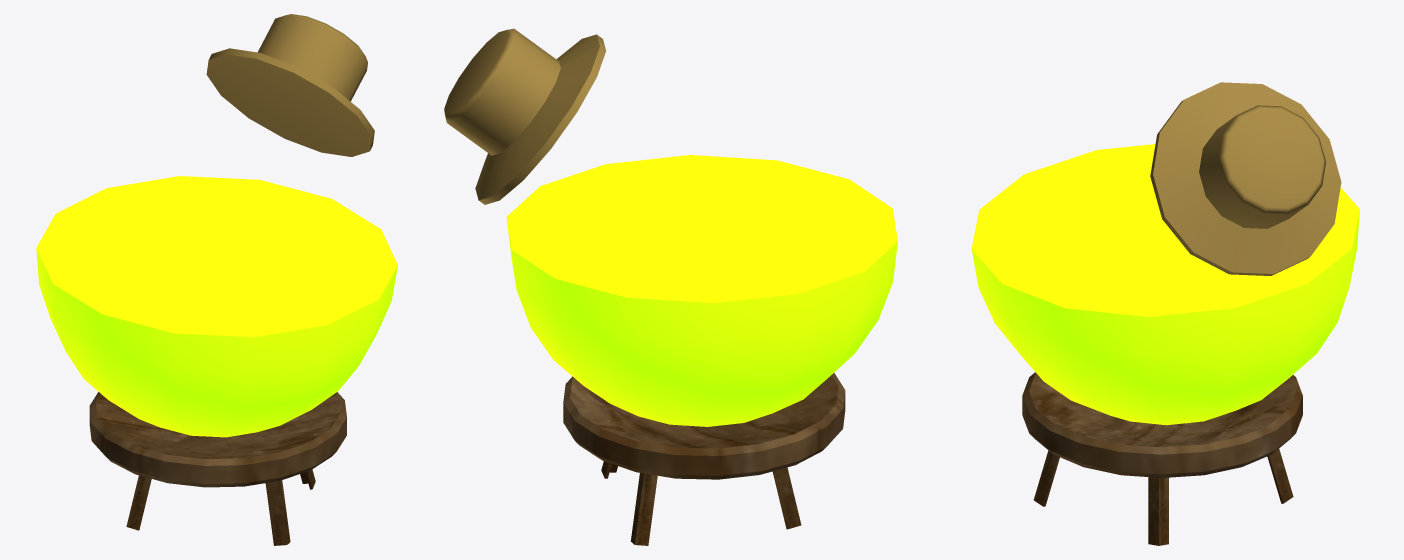
File: MagicPotion_1.fbx
3 renders of one model, left to right at view 1: azimuth 30°, elevation 25°; view 2: azimuth 150°, elevation 25°; view 3: azimuth 270°, elevation 25°, orthographic. The views are drawn at different scales.
Parts seen in each view (by area): view 1: MagicPotion_1; view 2: MagicPotion_1; view 3: MagicPotion_1.
Boxes of the visible parts, x1,y1,x2,y2 form: MagicPotion_1: [36, 14, 397, 545]; MagicPotion_1: [444, 28, 897, 545]; MagicPotion_1: [971, 82, 1359, 545].
Bounding box in the file's own units: 167 × 190 × 163.
